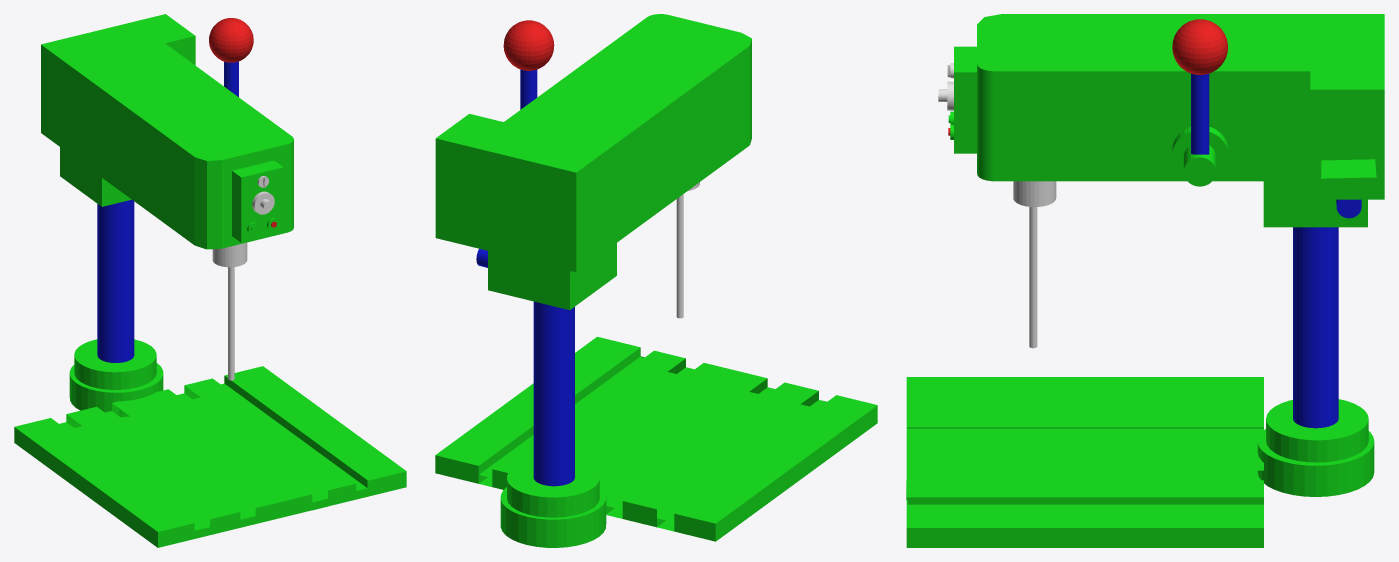
The picture shows the model from 3 angles, left to right: view 1: azimuth 30°, elevation 25°; view 2: azimuth 150°, elevation 25°; view 3: azimuth 270°, elevation 25°; orthographic projection. The views are drawn at different scales.
Parts seen in each view (by area): view 1: Cube.001, Цилиндр.001, Цилиндр; view 2: Cube.001, Цилиндр.001; view 3: Cube.001, Цилиндр.001, Цилиндр.
Part boxes in pixels (box(x1,y1,x2,y2)): Cube.001: box(14, 14, 406, 547); Цилиндр.001: box(228, 267, 234, 380); Цилиндр: box(212, 242, 247, 267); Cube.001: box(435, 14, 877, 547); Цилиндр.001: box(676, 194, 683, 318); Cube.001: box(906, 14, 1384, 547); Цилиндр.001: box(1029, 207, 1037, 348); Цилиндр: box(1013, 181, 1056, 206).
Bounding box in the file's own units: 200 × 304 × 268.
